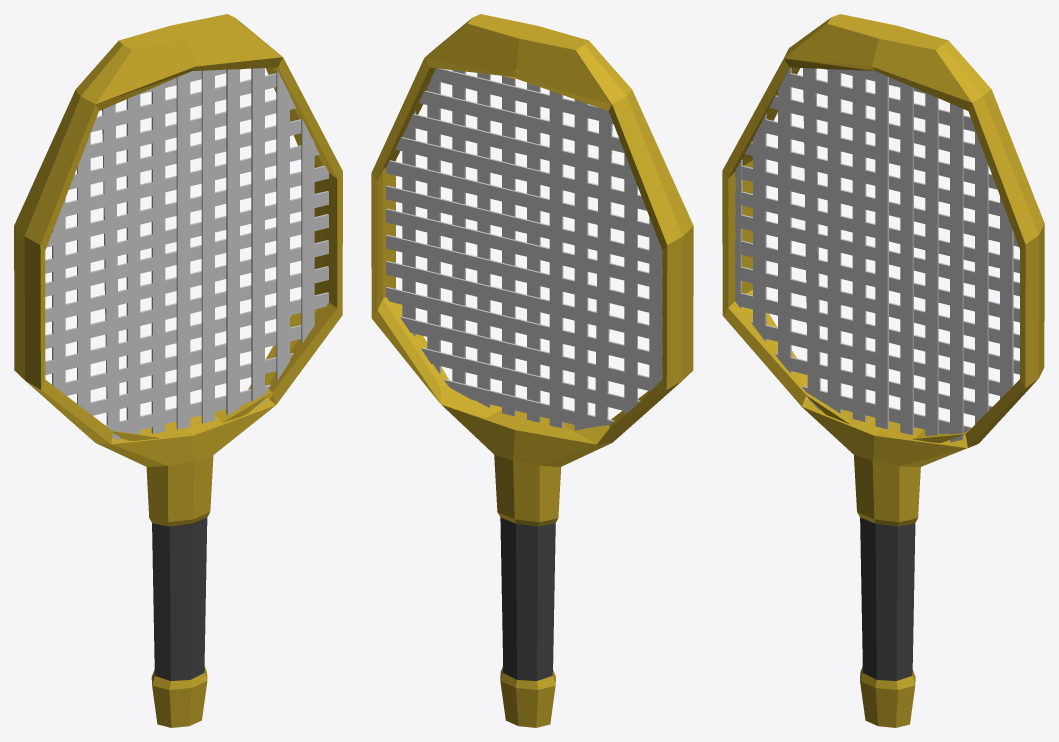
Rendered from tennisracket.fbx.
3 views of the same model, side by side, from view 1: azimuth 30°, elevation 25°; view 2: azimuth 150°, elevation 25°; view 3: azimuth 330°, elevation 25° (orthographic).
Parts seen in each view (by area): view 1: Plane, Cylinder; view 2: Plane, Cylinder; view 3: Plane, Cylinder.
Boxes of the visible parts, x1,y1,x2,y2 form: Plane: (45,68,328,441); Cylinder: (14,14,342,727); Plane: (386,68,662,430); Cylinder: (371,14,693,727); Plane: (735,67,1019,442); Cylinder: (722,14,1044,727).
Bounding box in the file's own units: 36.93 × 79.42 × 6.5.
